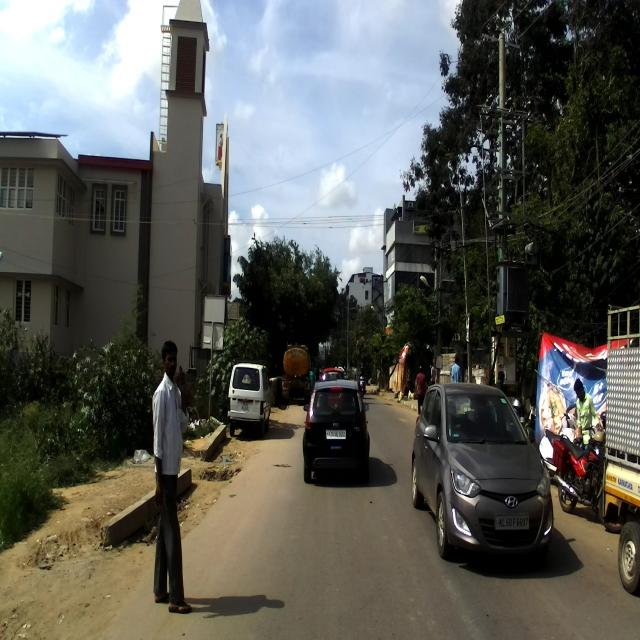Car_Ford: (302, 379, 370, 484)
Car_Hyundai: (411, 383, 557, 559)
Car_Maruti-Suzuki: (227, 356, 271, 436)
